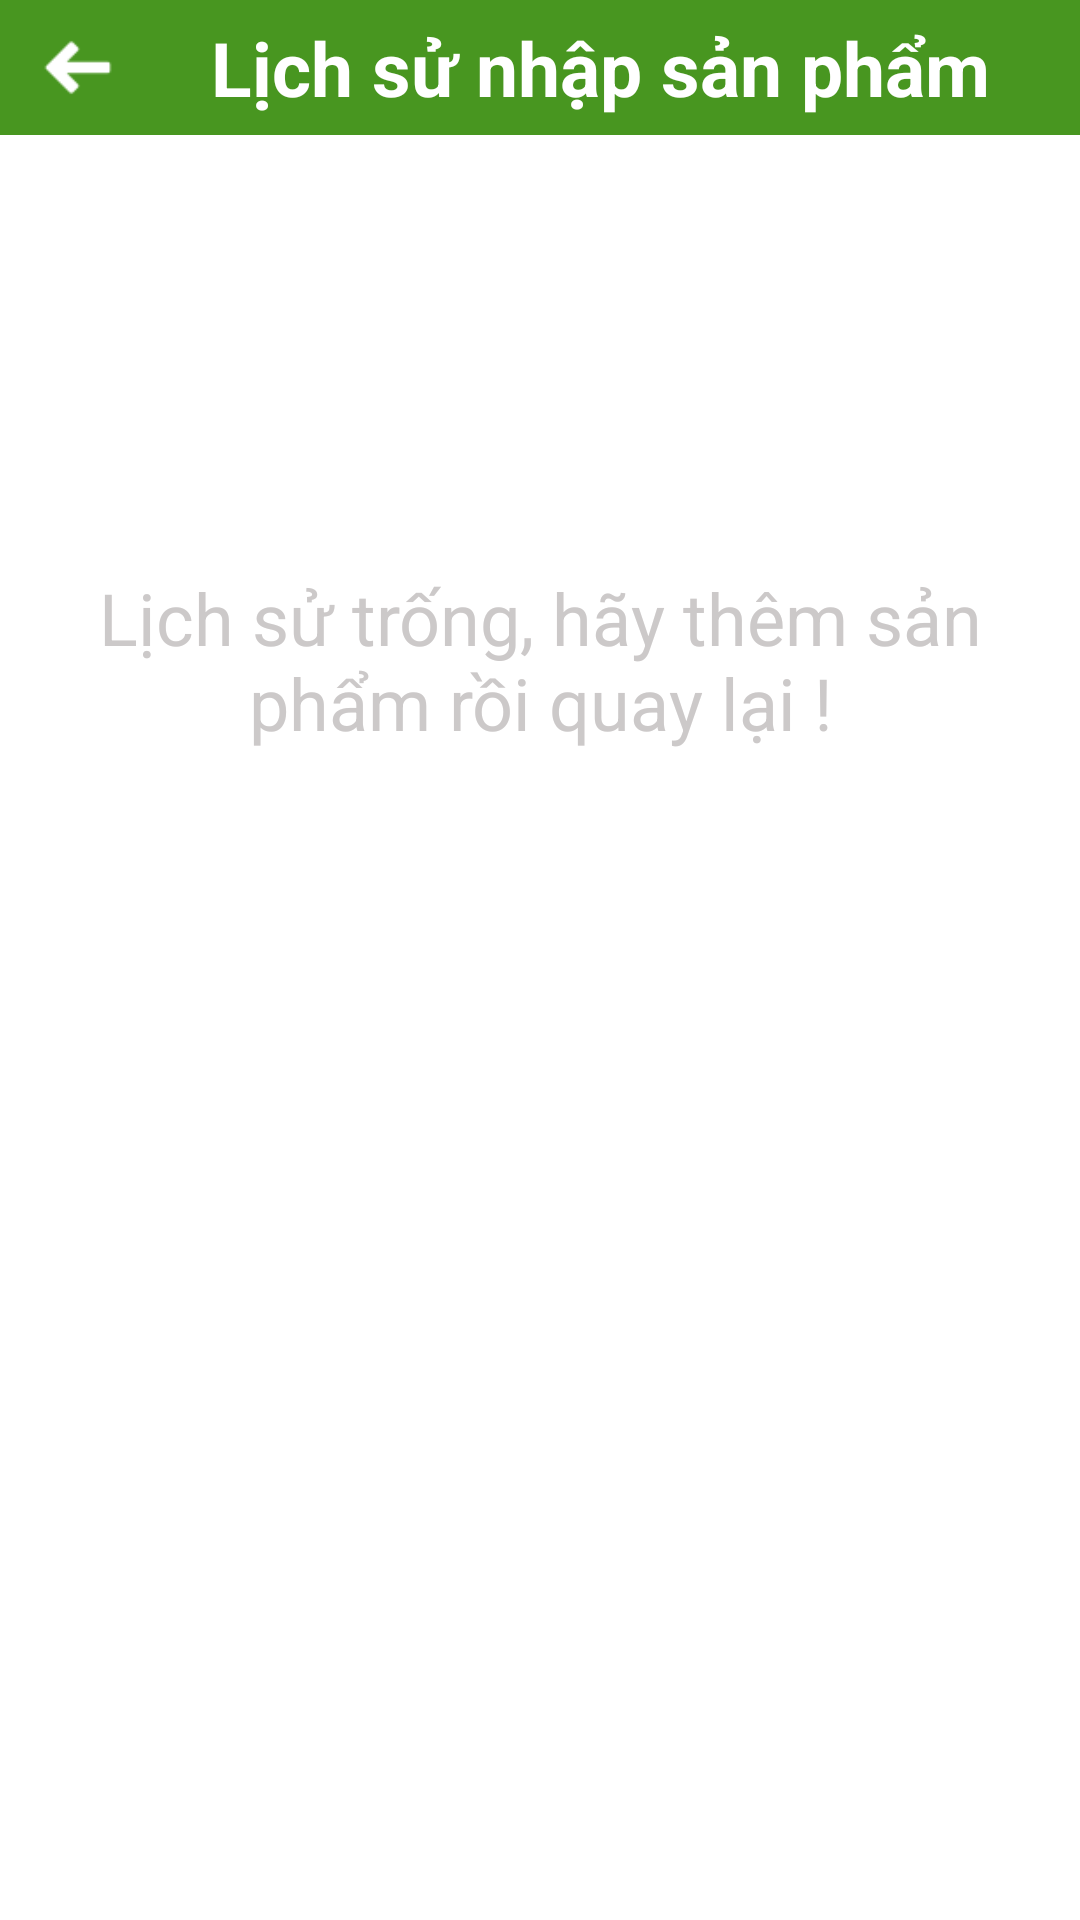

Named icons in this screenshot (1080px x 1920px) and their bounding boxes, [x1=x1, y1=y1, x2=x2, y2=y2]:
back: [x1=45, y1=41, x2=112, y2=94]
